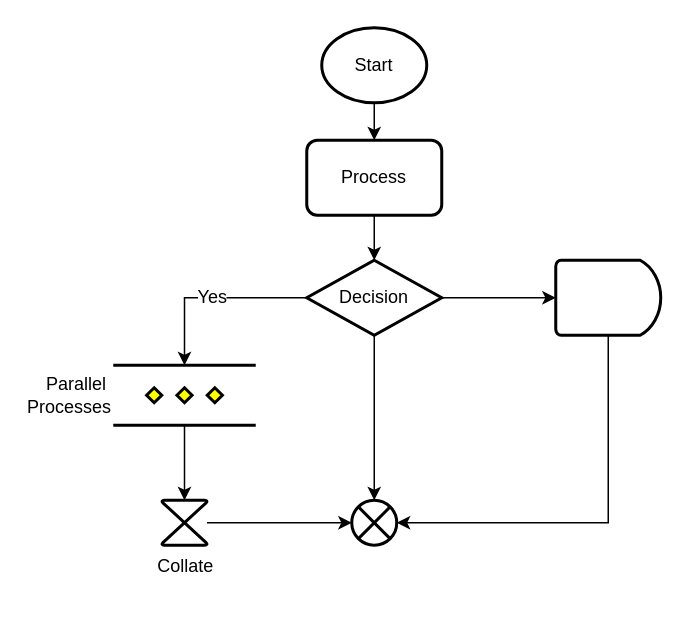
Some shapes in this 687 by 624 pixel diagram are drawn without their labels. Here are the shapes that lost their labels. From the top down, the centre of each, then its label:
At (608,297): "Delay".
At (374,522): "Summing Junction".
